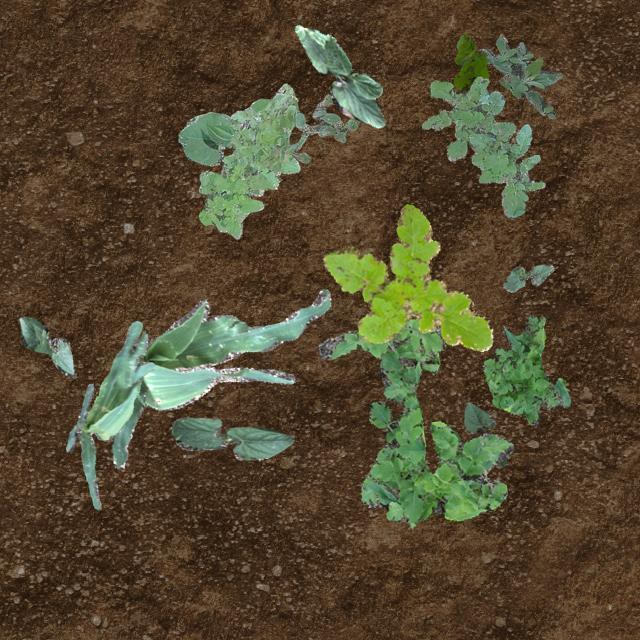crop: (110, 288, 330, 468), (64, 320, 154, 508), (294, 23, 384, 126), (178, 98, 270, 194), (170, 416, 294, 459), (19, 314, 75, 376), (462, 402, 506, 466), (502, 264, 554, 292)
weed: (318, 318, 512, 526), (322, 202, 492, 350), (420, 76, 544, 216), (198, 82, 298, 238), (482, 314, 570, 424), (481, 34, 562, 118), (287, 94, 358, 162), (452, 32, 488, 88)
